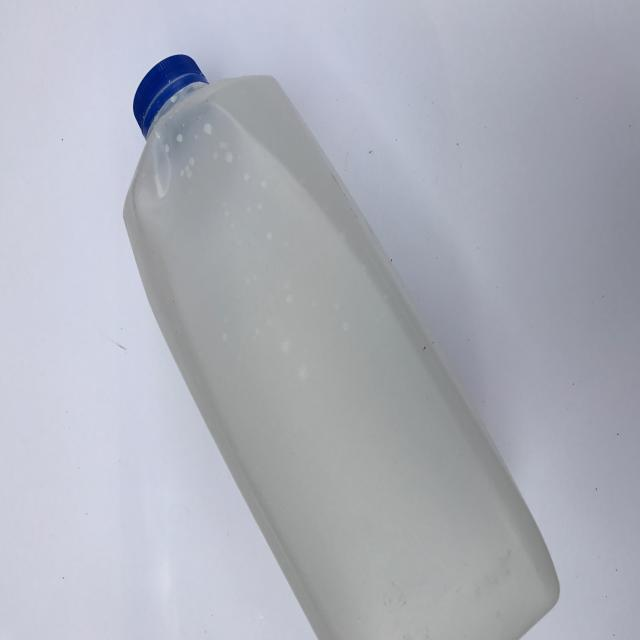plastic: (122, 53, 561, 640)
